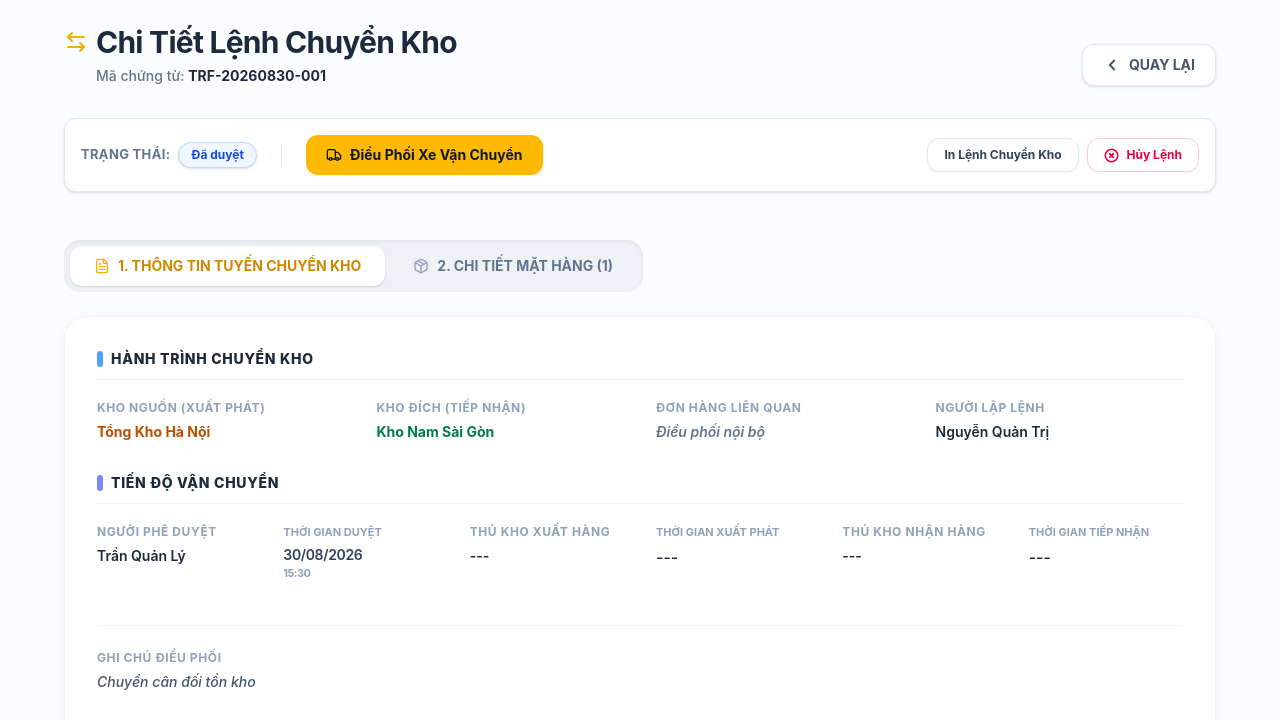
Module 10 - InventoryTransferDetail Component › TC02 - Bấm nút Điều Phối Xe Vận Chuyển hiển thị thông báo chuyển hướng sang Module Vận Tải
The width and height of the screenshot is (1280, 720).
Check: the text "TRF-20260830-001" is shown, box [188,67,326,84]
Click the button "Điều Phối Xe Vận Chuyển".
click(424, 155)  # box [306,135,542,175]
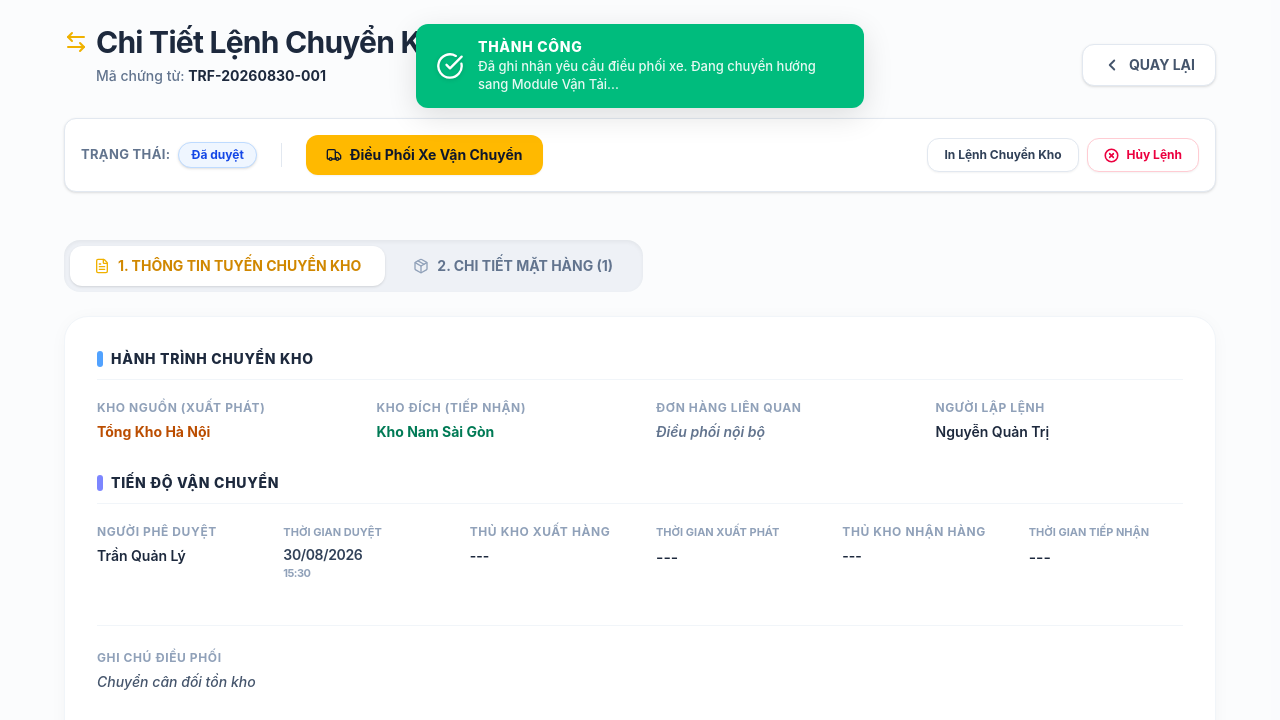
Check: the text "Đã ghi nhận yêu cầu điều phối xe" is shown, box [478,58,816,92]
